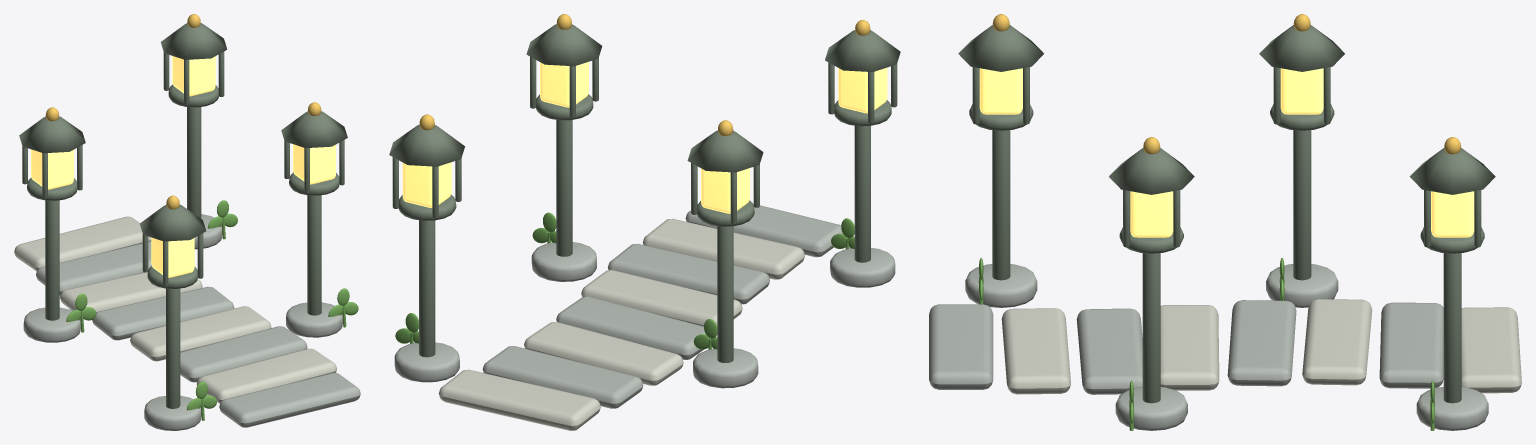
Rendered from decor-lantern-walk.glb.
3 views of the same model, side by side, from view 1: azimuth 30°, elevation 25°; view 2: azimuth 150°, elevation 25°; view 3: azimuth 270°, elevation 25° (orthographic). The views are drawn at different scales.
Visible parts, largest first — view 1: lantern-walk-bronze.002, lantern-walk-stone.002, lantern-walk-lightstone.002, lantern-walk-glass.002, lantern-walk-leaf.002, lantern-walk-gold.002; view 2: lantern-walk-bronze.002, lantern-walk-stone.002, lantern-walk-lightstone.002, lantern-walk-glass.002, lantern-walk-leaf.002, lantern-walk-gold.002; view 3: lantern-walk-stone.002, lantern-walk-bronze.002, lantern-walk-lightstone.002, lantern-walk-glass.002, lantern-walk-gold.002, lantern-walk-leaf.002.
Part boxes in pixels (x1,y1,x2,y2): lantern-walk-bronze.002: (19,23,347,408); lantern-walk-stone.002: (23,214,360,430); lantern-walk-lightstone.002: (14,216,336,403); lantern-walk-glass.002: (31,56,335,277); lantern-walk-leaf.002: (66,200,358,420); lantern-walk-gold.002: (45,14,321,209); lantern-walk-bronze.002: (389,24,900,362); lantern-walk-stone.002: (394,203,895,408); lantern-walk-lightstone.002: (438,218,804,430); lantern-walk-glass.002: (402,61,887,213); lantern-walk-leaf.002: (395,212,854,349); lantern-walk-gold.002: (419,14,870,135); lantern-walk-stone.002: (929,264,1488,430); lantern-walk-bronze.002: (958,25,1495,403); lantern-walk-lightstone.002: (1001,299,1521,394); lantern-walk-glass.002: (979,68,1474,237); lantern-walk-gold.002: (992,14,1461,154); lantern-walk-leaf.002: (978,257,1434,430).
Bounding box in the file's own units: 3.85 × 3.08 × 5.91.
